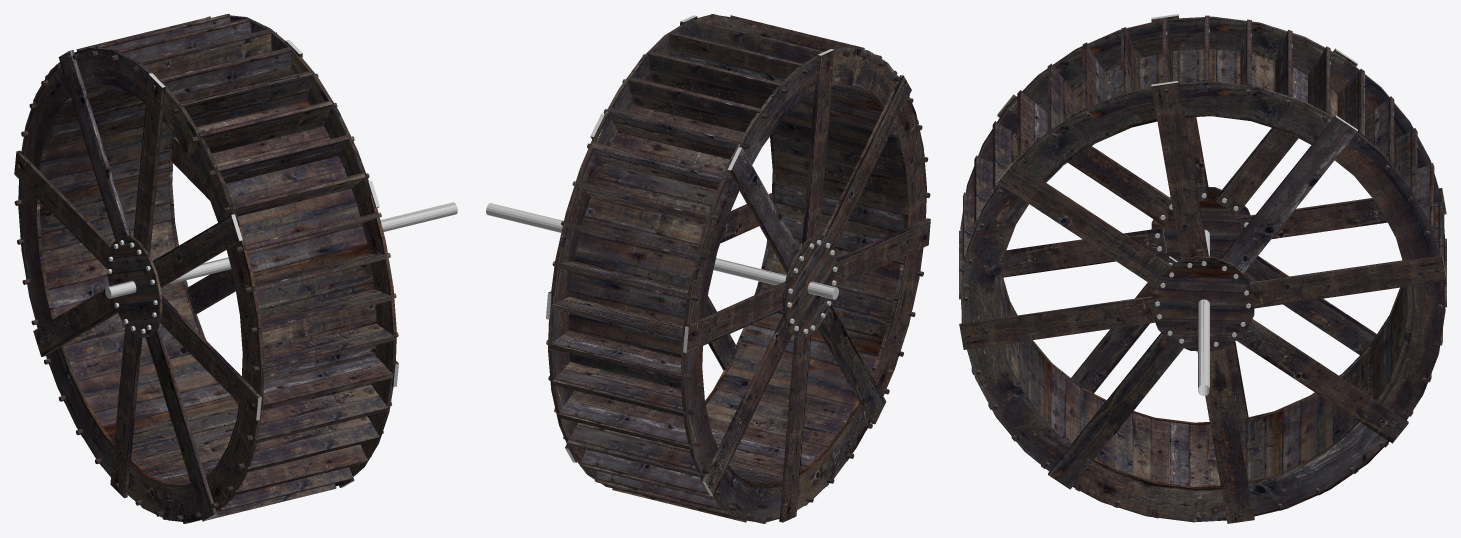
File: wTER mill wheel.fbx
3 views of the same model, side by side, from view 1: azimuth 30°, elevation 25°; view 2: azimuth 150°, elevation 25°; view 3: azimuth 270°, elevation 25° (orthographic).
Parts seen in each view (by area): view 1: CIHNWBYCUGT6RAQZPG5S1BG3S.001; view 2: CIHNWBYCUGT6RAQZPG5S1BG3S.001; view 3: CIHNWBYCUGT6RAQZPG5S1BG3S.001.
Boxes of the visible parts, x1,y1,x2,y2 form: CIHNWBYCUGT6RAQZPG5S1BG3S.001: (14, 14, 457, 523); CIHNWBYCUGT6RAQZPG5S1BG3S.001: (486, 14, 930, 523); CIHNWBYCUGT6RAQZPG5S1BG3S.001: (959, 14, 1446, 523).
Bounding box in the file's own units: 470 × 574 × 574.
